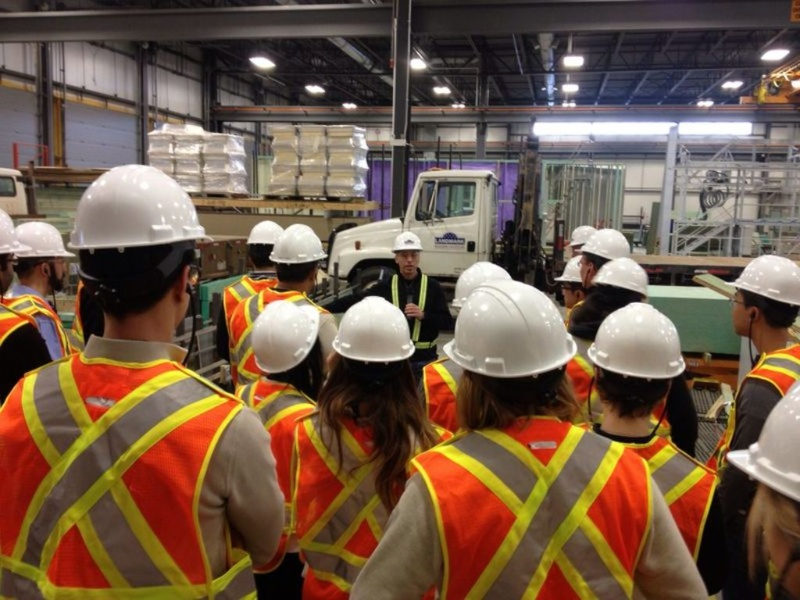Baret: (67, 164, 210, 261), (443, 279, 581, 373), (590, 301, 687, 379), (332, 295, 417, 361), (253, 298, 325, 368), (727, 255, 800, 304), (268, 224, 328, 264), (10, 223, 72, 259), (593, 256, 651, 294), (392, 233, 424, 252)
